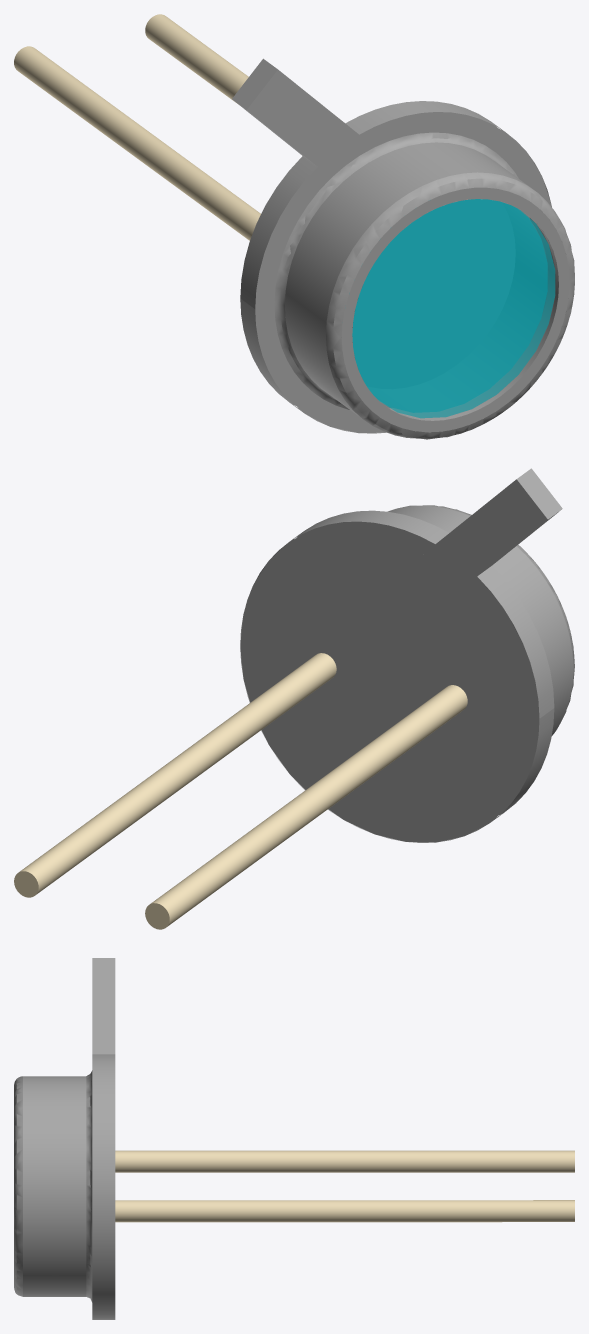
Rendered from TO-46-2_Window.glb.
3 views of the same model, one above another, from view 1: azimuth 30°, elevation 25°; view 2: azimuth 150°, elevation 25°; view 3: azimuth 270°, elevation 25° (orthographic). The views are drawn at different scales.
Parts seen in each view (by area): view 1: Shape_IndexedFaceSet.004, Shape_IndexedFaceSet.023, Shape_IndexedFaceSet.021, Shape_IndexedFaceSet.003, Shape_IndexedFaceSet.006, Shape_IndexedFaceSet.022, Shape_IndexedFaceSet.001, Shape_IndexedFaceSet.017, Shape_IndexedFaceSet, Shape_IndexedFaceSet.010, Shape_IndexedFaceSet.005, Shape_IndexedFaceSet.016 (+5 smaller); view 2: Shape_IndexedFaceSet.011, Shape_IndexedFaceSet.017, Shape_IndexedFaceSet.016, Shape_IndexedFaceSet.015, Shape_IndexedFaceSet.003, Shape_IndexedFaceSet.018, Shape_IndexedFaceSet.009, Shape_IndexedFaceSet.008, Shape_IndexedFaceSet.014; view 3: Shape_IndexedFaceSet.003, Shape_IndexedFaceSet.017, Shape_IndexedFaceSet.016, Shape_IndexedFaceSet.009, Shape_IndexedFaceSet.013, Shape_IndexedFaceSet.001, Shape_IndexedFaceSet.005.
Part boxes in pixels (<box>): Shape_IndexedFaceSet.004: <box>352,199,555,418</box>; Shape_IndexedFaceSet.023: <box>352,199,547,412</box>; Shape_IndexedFaceSet.021: <box>353,199,514,388</box>; Shape_IndexedFaceSet.003: <box>285,142,566,432</box>; Shape_IndexedFaceSet.006: <box>255,112,551,433</box>; Shape_IndexedFaceSet.022: <box>345,188,548,412</box>; Shape_IndexedFaceSet.001: <box>326,172,574,439</box>; Shape_IndexedFaceSet.017: <box>14,46,260,240</box>; Shape_IndexedFaceSet: <box>341,187,569,432</box>; Shape_IndexedFaceSet.010: <box>247,69,358,166</box>; Shape_IndexedFaceSet.005: <box>274,132,518,409</box>; Shape_IndexedFaceSet.016: <box>145,14,248,104</box>; Shape_IndexedFaceSet.011: <box>240,522,539,842</box>; Shape_IndexedFaceSet.017: <box>150,685,467,926</box>; Shape_IndexedFaceSet.016: <box>19,653,336,894</box>; Shape_IndexedFaceSet.015: <box>309,544,476,686</box>; Shape_IndexedFaceSet.003: <box>388,505,573,735</box>; Shape_IndexedFaceSet.018: <box>435,479,547,576</box>; Shape_IndexedFaceSet.009: <box>240,510,554,842</box>; Shape_IndexedFaceSet.008: <box>477,566,554,718</box>; Shape_IndexedFaceSet.014: <box>517,468,562,519</box>; Shape_IndexedFaceSet.003: <box>23,1076,86,1296</box>; Shape_IndexedFaceSet.017: <box>115,1150,574,1172</box>; Shape_IndexedFaceSet.016: <box>115,1200,574,1222</box>; Shape_IndexedFaceSet.009: <box>92,1054,115,1319</box>; Shape_IndexedFaceSet.013: <box>92,958,115,1054</box>; Shape_IndexedFaceSet.001: <box>14,1076,22,1296</box>; Shape_IndexedFaceSet.005: <box>86,1070,92,1302</box>.
Size of the model in its own units: 2.35 by 2.85 by 4.8.
